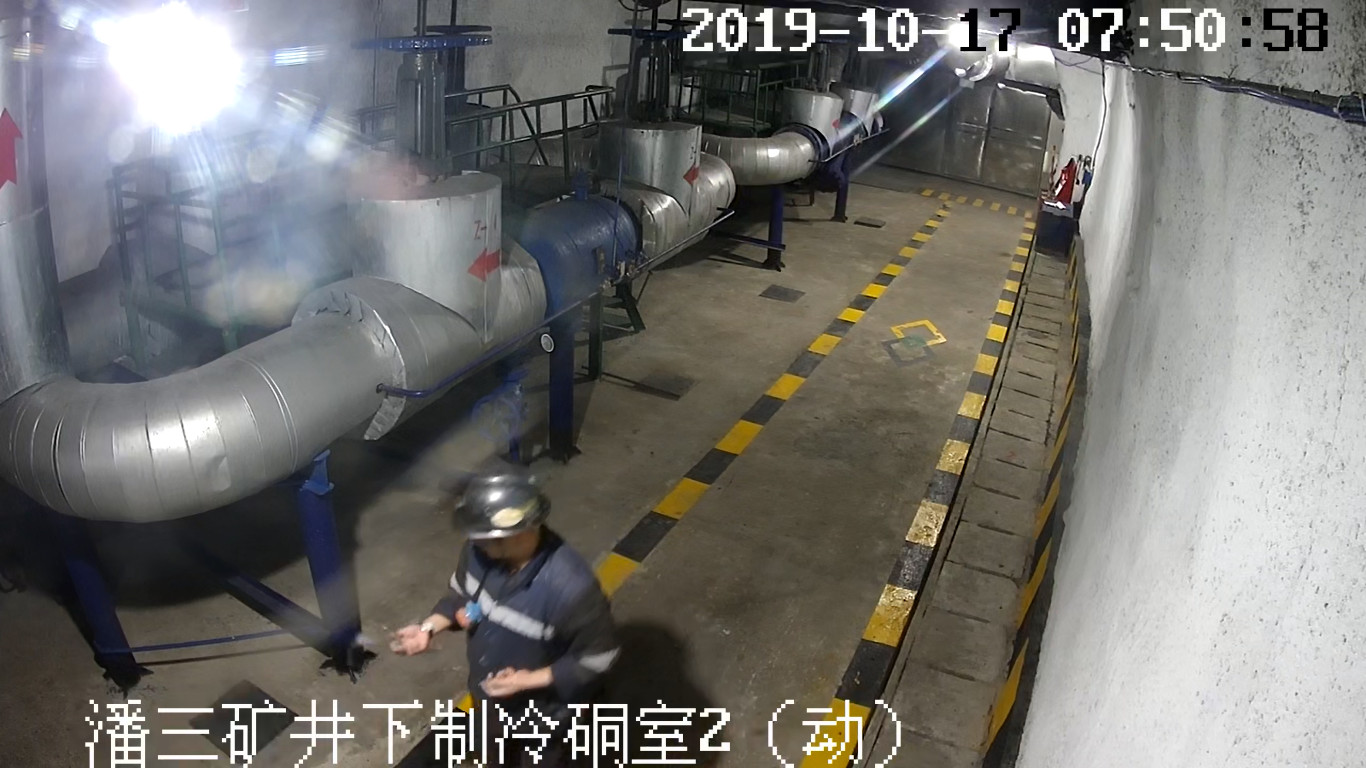helmet: (440, 455, 551, 540)
